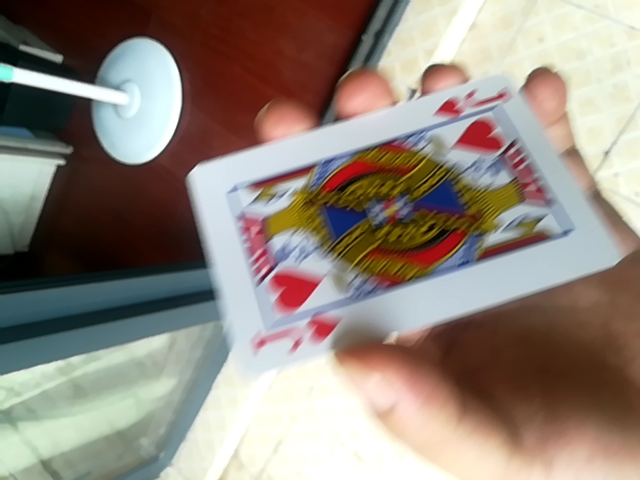hx j: (180, 71, 627, 384)
